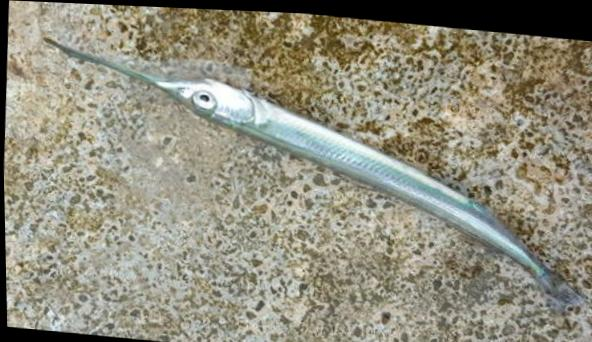fish: (45, 37, 585, 311)
